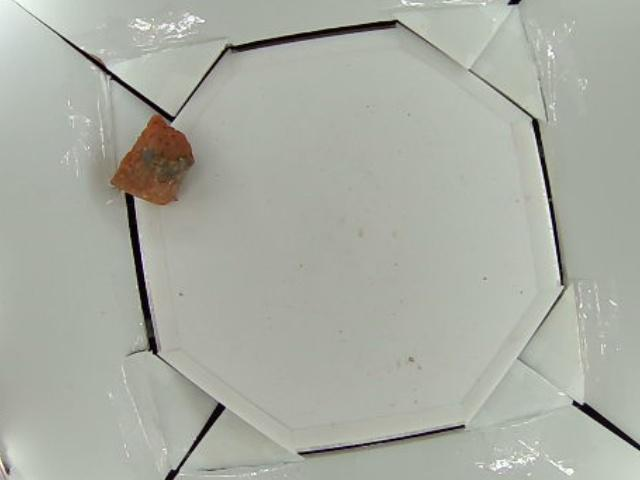Brisk: (110, 113, 197, 205)
